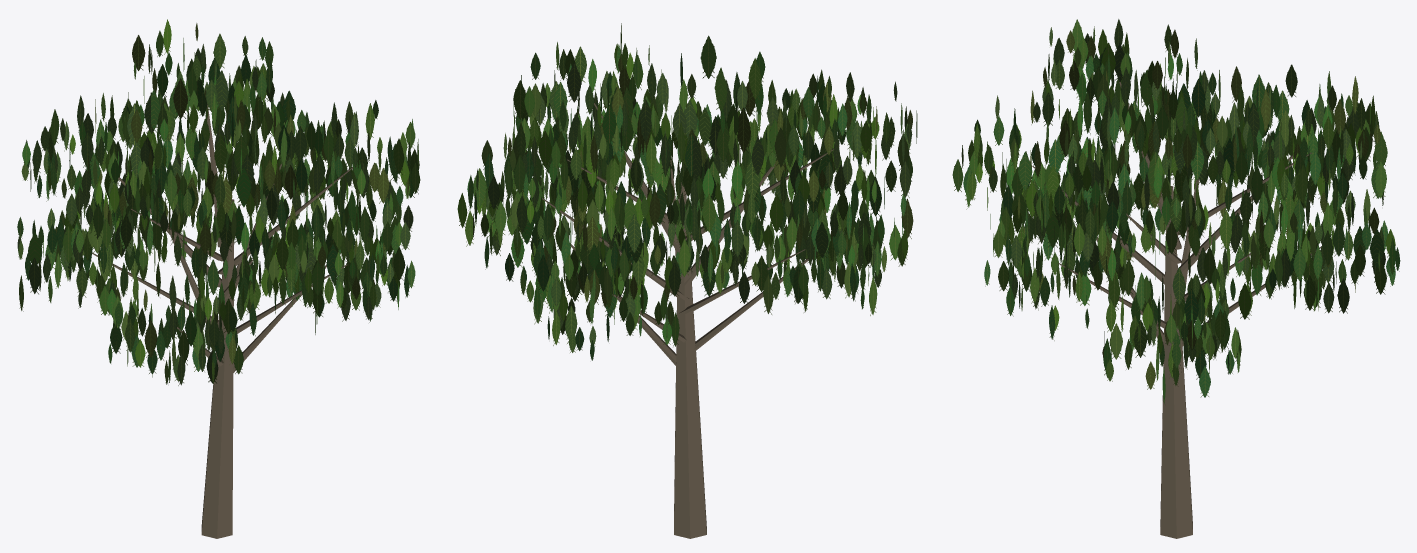
Rendered from tree.glb.
3 renders of one model, left to right at view 1: azimuth 30°, elevation 25°; view 2: azimuth 150°, elevation 25°; view 3: azimuth 270°, elevation 25°, orthographic. The views are drawn at different scales.
Bounding box in the file's own units: 6.88 × 7.5 × 6.73.
Materials: 2 (1 with a texture image).
